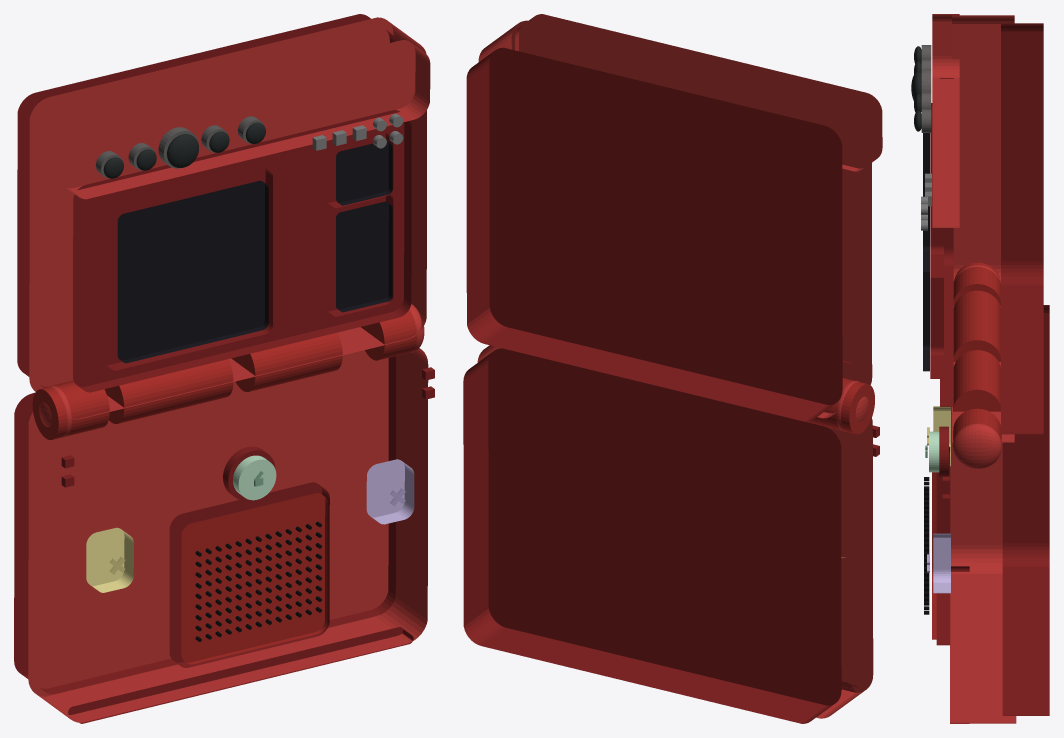
The picture shows the model from 3 angles, left to right: view 1: azimuth 30°, elevation 25°; view 2: azimuth 150°, elevation 25°; view 3: azimuth 270°, elevation 25°; orthographic projection. The views are drawn at different scales.
Visible parts, largest first — view 1: LowerShell, UpperShell, DisplayPanel, CameraBar, MainScreen, SpeakerPanelInner, LowerBack, MainScreenBezel, UpperBack, LowerRightScreen, Hinge1, SpeakerPanel (+12 smaller); view 2: LowerBack, UpperBack, UpperShell, LowerShell, CameraBar, Hinge0; view 3: UpperBack, LowerBack, LowerShell, UpperShell, CameraBar, Hinge1, Hinge2, DisplayPanel, HingeCap1, SpeakerPanel, LowerRightBezel, Hinge0 (+13 smaller).
Boxes of the visible parts, x1=… form: LowerShell: x1=28, y1=348, x2=428, y2=722; UpperShell: x1=29, y1=17, x2=426, y2=419; DisplayPanel: x1=73, y1=110, x2=411, y2=392; CameraBar: x1=58, y1=40, x2=430, y2=199; MainScreen: x1=117, y1=180, x2=268, y2=363; SpeakerPanelInner: x1=181, y1=493, x2=327, y2=664; LowerBack: x1=14, y1=356, x2=395, y2=694; MainScreenBezel: x1=102, y1=165, x2=272, y2=370; UpperBack: x1=17, y1=14, x2=396, y2=387; LowerRightScreen: x1=336, y1=201, x2=392, y2=312; Hinge1: x1=104, y1=359, x2=233, y2=423; SpeakerPanel: x1=169, y1=482, x2=329, y2=667; LowerBack: x1=463, y1=348, x2=841, y2=723; UpperBack: x1=466, y1=47, x2=842, y2=421; UpperShell: x1=478, y1=20, x2=872, y2=418; LowerShell: x1=477, y1=345, x2=873, y2=718; CameraBar: x1=515, y1=14, x2=882, y2=171; Hinge0: x1=806, y1=378, x2=874, y2=434; UpperBack: x1=1001, y1=23, x2=1043, y2=434; LowerBack: x1=1002, y1=305, x2=1049, y2=715; LowerShell: x1=950, y1=407, x2=1016, y2=723; UpperShell: x1=952, y1=15, x2=1014, y2=442; CameraBar: x1=932, y1=14, x2=959, y2=227; Hinge1: x1=953, y1=290, x2=1000, y2=361; Hinge2: x1=953, y1=350, x2=1000, y2=411; DisplayPanel: x1=940, y1=78, x2=953, y2=406; HingeCap1: x1=952, y1=423, x2=1001, y2=469; SpeakerPanel: x1=936, y1=446, x2=950, y2=645; LowerRightBezel: x1=930, y1=278, x2=943, y2=378; Hinge0: x1=953, y1=262, x2=1000, y2=305.
Size of the model in its own units: 1.03 by 1.58 by 0.3541.
